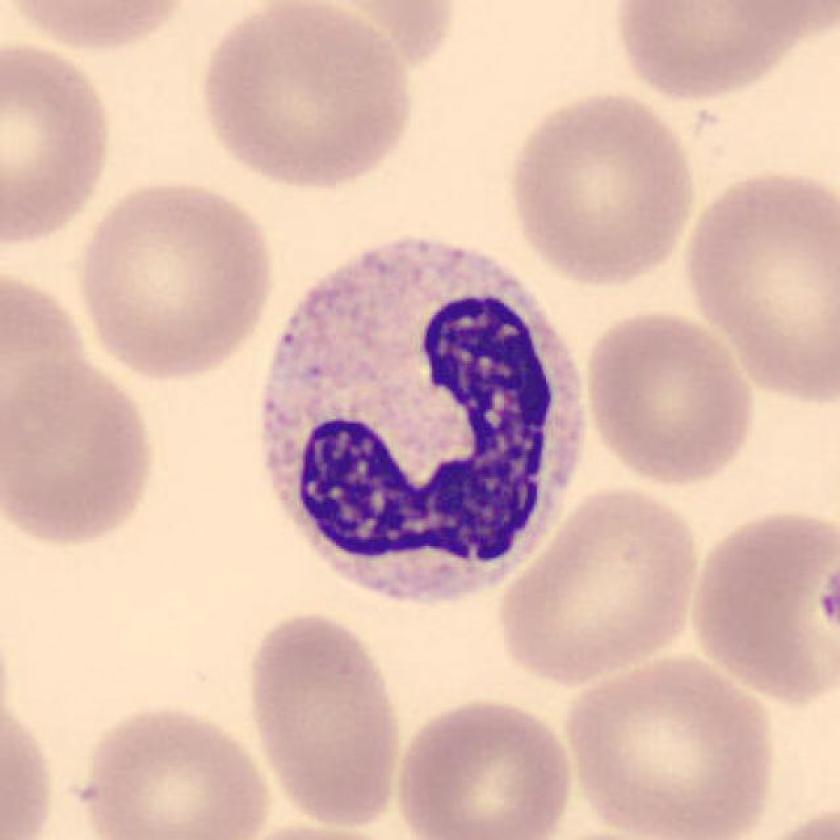neutrophil: (265, 239, 581, 604)
